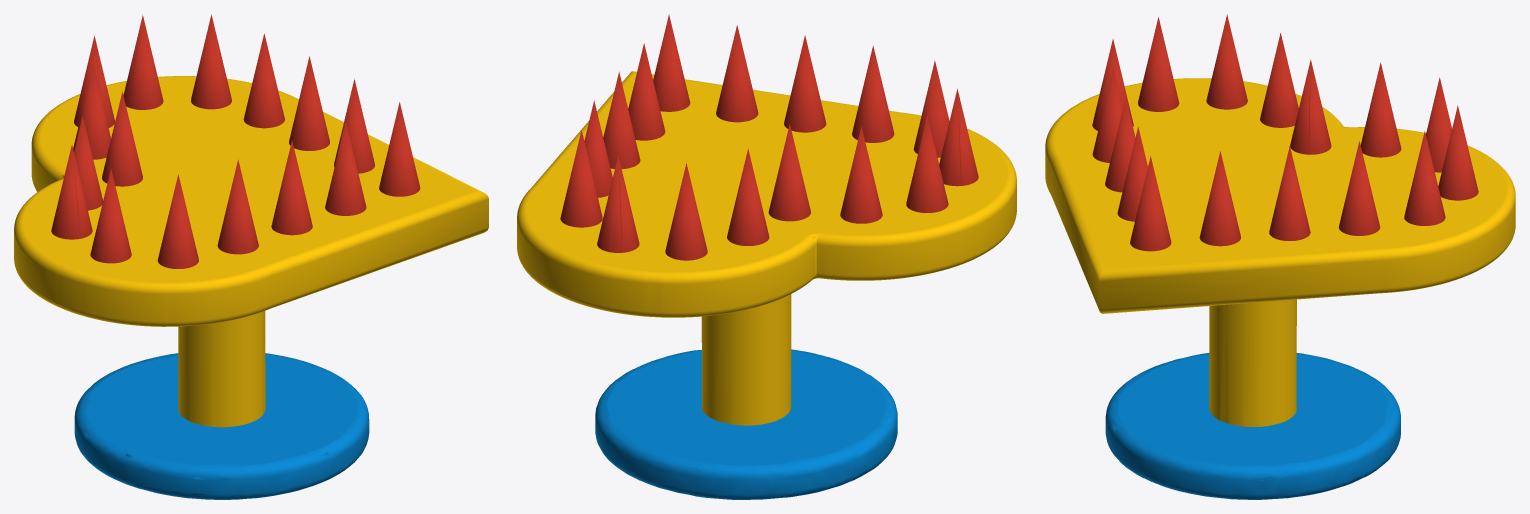
File: palm-heart.glb
3 views of the same model, side by side, from view 1: azimuth 30°, elevation 25°; view 2: azimuth 150°, elevation 25°; view 3: azimuth 270°, elevation 25° (orthographic). The views are drawn at different scales.
Visible parts, largest first — view 1: palm-heart-part-003, palm-heart-part-001, palm-heart-part-002, palm-heart-part-005, palm-heart-part-006, palm-heart-part-008, palm-heart-part-007, palm-heart-part-011, palm-heart-part-017, palm-heart-part-010, palm-heart-part-019, palm-heart-part-004 (+7 smaller); view 2: palm-heart-part-003, palm-heart-part-001, palm-heart-part-002, palm-heart-part-016, palm-heart-part-019, palm-heart-part-010, palm-heart-part-009, palm-heart-part-012, palm-heart-part-018, palm-heart-part-014, palm-heart-part-007, palm-heart-part-008 (+7 smaller); view 3: palm-heart-part-003, palm-heart-part-001, palm-heart-part-002, palm-heart-part-007, palm-heart-part-012, palm-heart-part-011, palm-heart-part-017, palm-heart-part-015, palm-heart-part-013, palm-heart-part-019, palm-heart-part-005, palm-heart-part-014 (+7 smaller).
Boxes of the visible parts, left/top/right/bottom form: palm-heart-part-003: left=14, top=76, right=488, bottom=326; palm-heart-part-001: left=74, top=353, right=369, bottom=499; palm-heart-part-002: left=178, top=311, right=265, bottom=427; palm-heart-part-005: left=90, top=168, right=131, bottom=263; palm-heart-part-006: left=217, top=159, right=258, bottom=254; palm-heart-part-008: left=271, top=140, right=312, bottom=235; palm-heart-part-007: left=51, top=145, right=92, bottom=239; palm-heart-part-011: left=379, top=102, right=420, bottom=196; palm-heart-part-017: left=243, top=33, right=284, bottom=128; palm-heart-part-010: left=325, top=121, right=366, bottom=215; palm-heart-part-019: left=191, top=14, right=231, bottom=109; palm-heart-part-004: left=157, top=174, right=198, bottom=268; palm-heart-part-003: left=517, top=71, right=1016, bottom=317; palm-heart-part-001: left=595, top=349, right=897, bottom=499; palm-heart-part-002: left=701, top=294, right=791, bottom=425; palm-heart-part-016: left=665, top=163, right=707, bottom=260; palm-heart-part-019: left=560, top=130, right=602, bottom=227; palm-heart-part-010: left=716, top=25, right=758, bottom=122; palm-heart-part-009: left=840, top=126, right=882, bottom=223; palm-heart-part-012: left=768, top=123, right=810, bottom=221; palm-heart-part-018: left=597, top=156, right=639, bottom=252; palm-heart-part-014: left=727, top=148, right=769, bottom=245; palm-heart-part-007: left=906, top=116, right=948, bottom=212; palm-heart-part-008: left=784, top=35, right=826, bottom=132; palm-heart-part-003: left=1045, top=78, right=1515, bottom=313; palm-heart-part-001: left=1105, top=353, right=1400, bottom=499; palm-heart-part-002: left=1209, top=299, right=1296, bottom=426; palm-heart-part-007: left=1206, top=14, right=1247, bottom=109; palm-heart-part-012: left=1290, top=59, right=1331, bottom=154; palm-heart-part-011: left=1130, top=156, right=1171, bottom=251; palm-heart-part-017: left=1338, top=141, right=1380, bottom=235; palm-heart-part-015: left=1269, top=146, right=1310, bottom=240; palm-heart-part-013: left=1199, top=151, right=1240, bottom=246; palm-heart-part-019: left=1404, top=131, right=1445, bottom=225; palm-heart-part-005: left=1138, top=17, right=1179, bottom=111; palm-heart-part-014: left=1360, top=62, right=1401, bottom=157.
Size of the model in its own units: 2.99 by 2.44 by 3.
